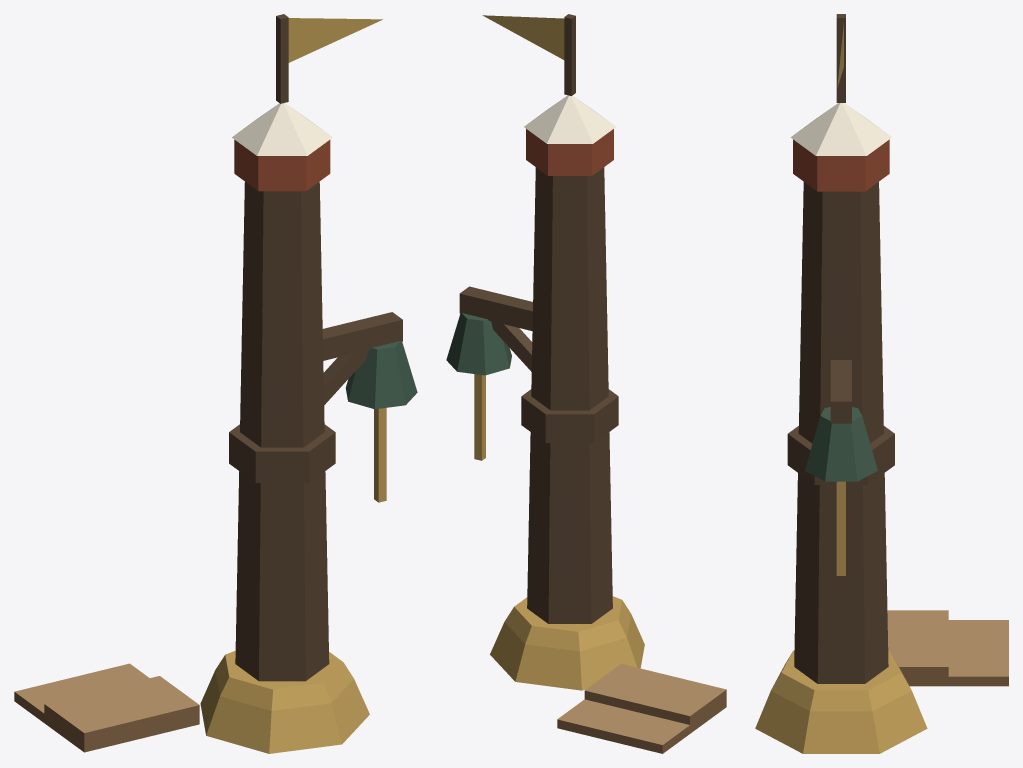
The model's file is ferry-post.glb.
3 renders of one model, left to right at view 1: azimuth 30°, elevation 25°; view 2: azimuth 150°, elevation 25°; view 3: azimuth 270°, elevation 25°, orthographic. The views are drawn at different scales.
Parts seen in each view (by area): view 1: ferry-post; view 2: ferry-post; view 3: ferry-post.
Part boxes in pixels (x1=…): ferry-post: x1=14, y1=14, x2=417, y2=753; ferry-post: x1=446, y1=14, x2=726, y2=753; ferry-post: x1=755, y1=14, x2=1008, y2=753.
Bounding box in the file's own units: 2.7 × 5.8 × 1.89.
Materials: 1 (1 with a texture image).
